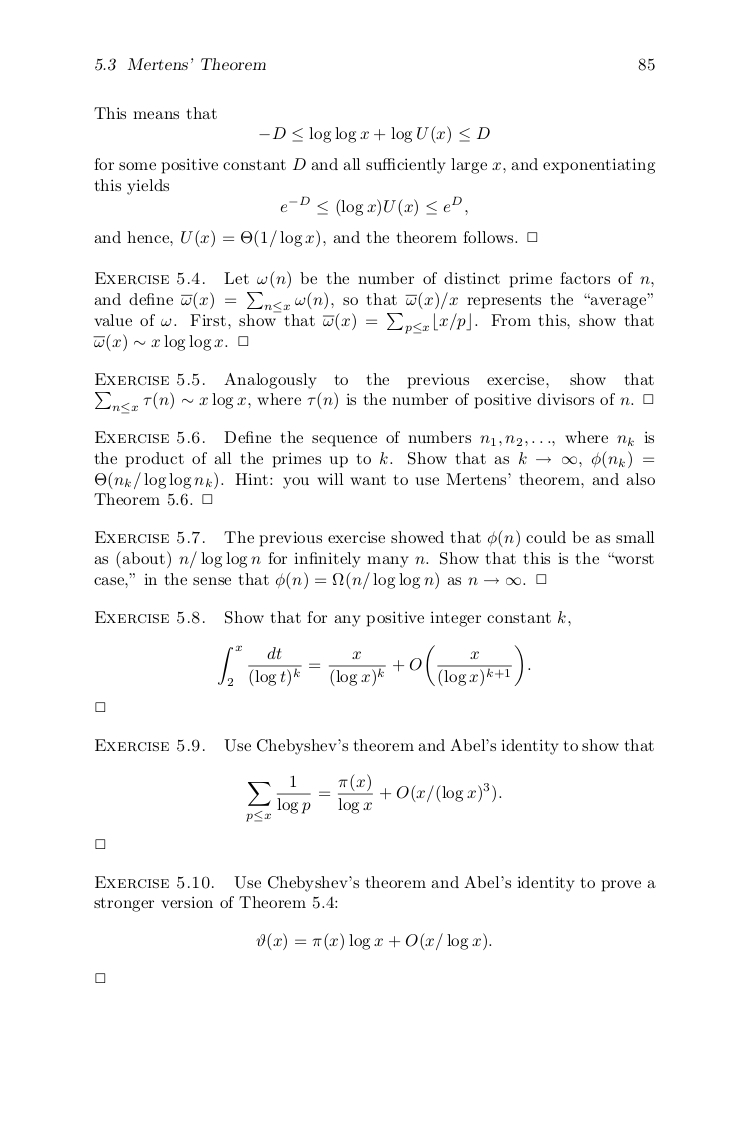formula: (218, 644, 530, 687), (246, 773, 501, 822), (256, 932, 491, 951), (259, 125, 489, 144), (280, 196, 467, 216)
